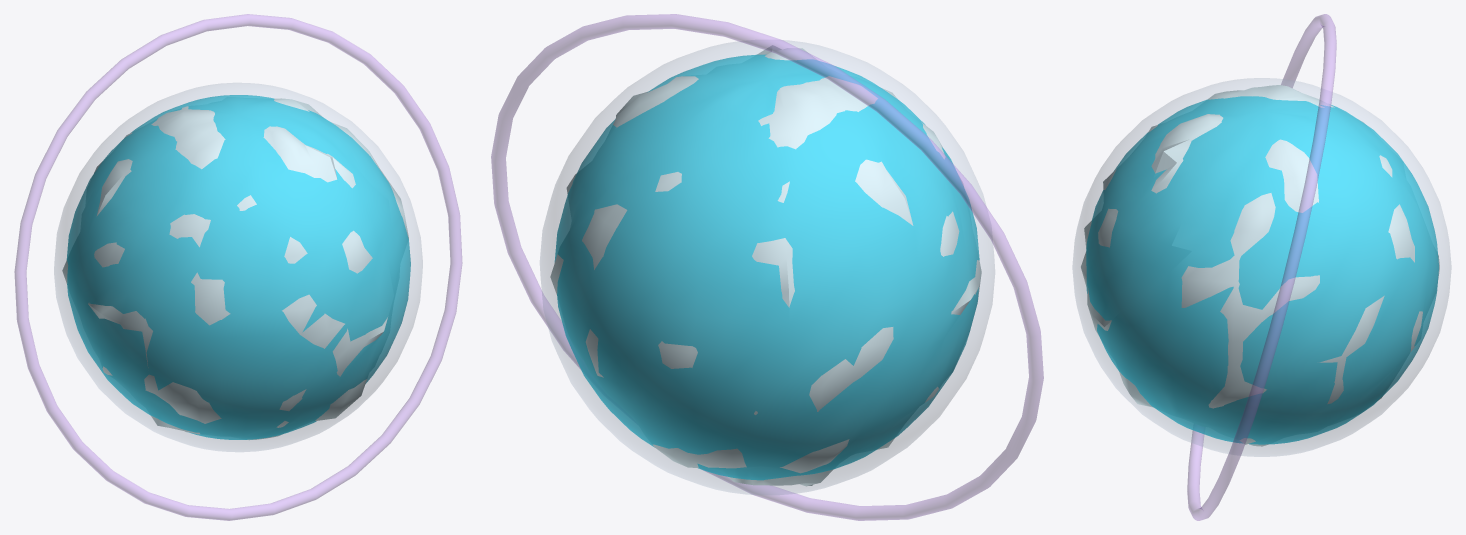
The model's file is planet6.glb.
The picture shows the model from 3 angles, left to right: view 1: azimuth 30°, elevation 25°; view 2: azimuth 150°, elevation 25°; view 3: azimuth 270°, elevation 25°; orthographic projection. The views are drawn at different scales.
Visible parts, largest first — view 1: Sphere.1, Sphere, Torus, Sphere.2; view 2: Sphere.1, Sphere, Torus, Sphere.2; view 3: Sphere.1, Sphere, Sphere.2, Torus.
Boxes of the visible parts, <box> form: Sphere.1: <box>54,83,422,451</box>; Sphere: <box>66,95,410,439</box>; Torus: <box>14,14,462,520</box>; Sphere.2: <box>62,98,408,440</box>; Sphere.1: <box>540,40,994,494</box>; Sphere: <box>554,54,979,480</box>; Torus: <box>491,14,1043,520</box>; Sphere.2: <box>550,45,981,486</box>; Sphere.1: <box>1072,78,1451,456</box>; Sphere: <box>1086,96,1438,444</box>; Sphere.2: <box>1081,85,1439,446</box>; Torus: <box>1187,14,1336,520</box>.
Size of the model in its own units: 193 by 186 by 140.
